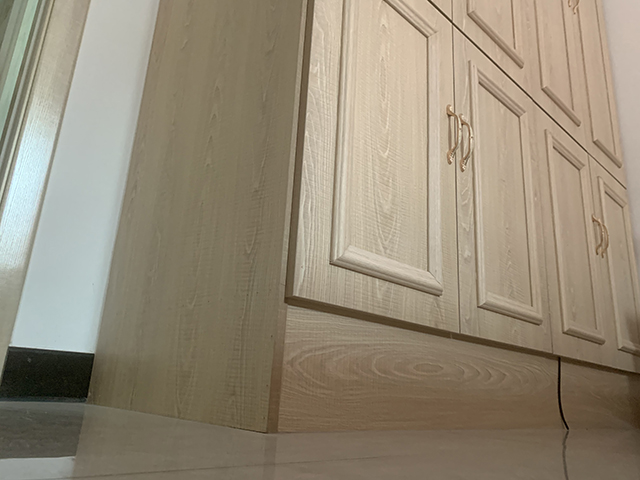cabinet: (84, 1, 639, 435)
